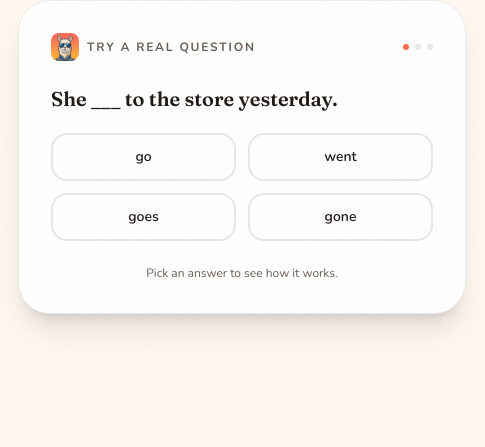
Test case: LessonDemo › moves to the next question and re-enables answering
Click the button "went" at (340, 157), box [248,133,433,181]
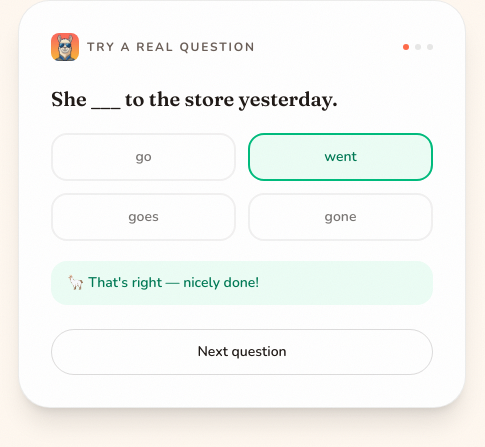
Click the button "Next question" at (242, 352), box [51,329,433,375]
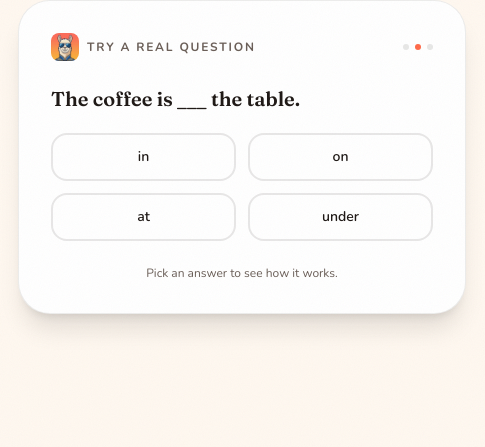
Result: the button "on" is enabled at [248,133,433,181]
